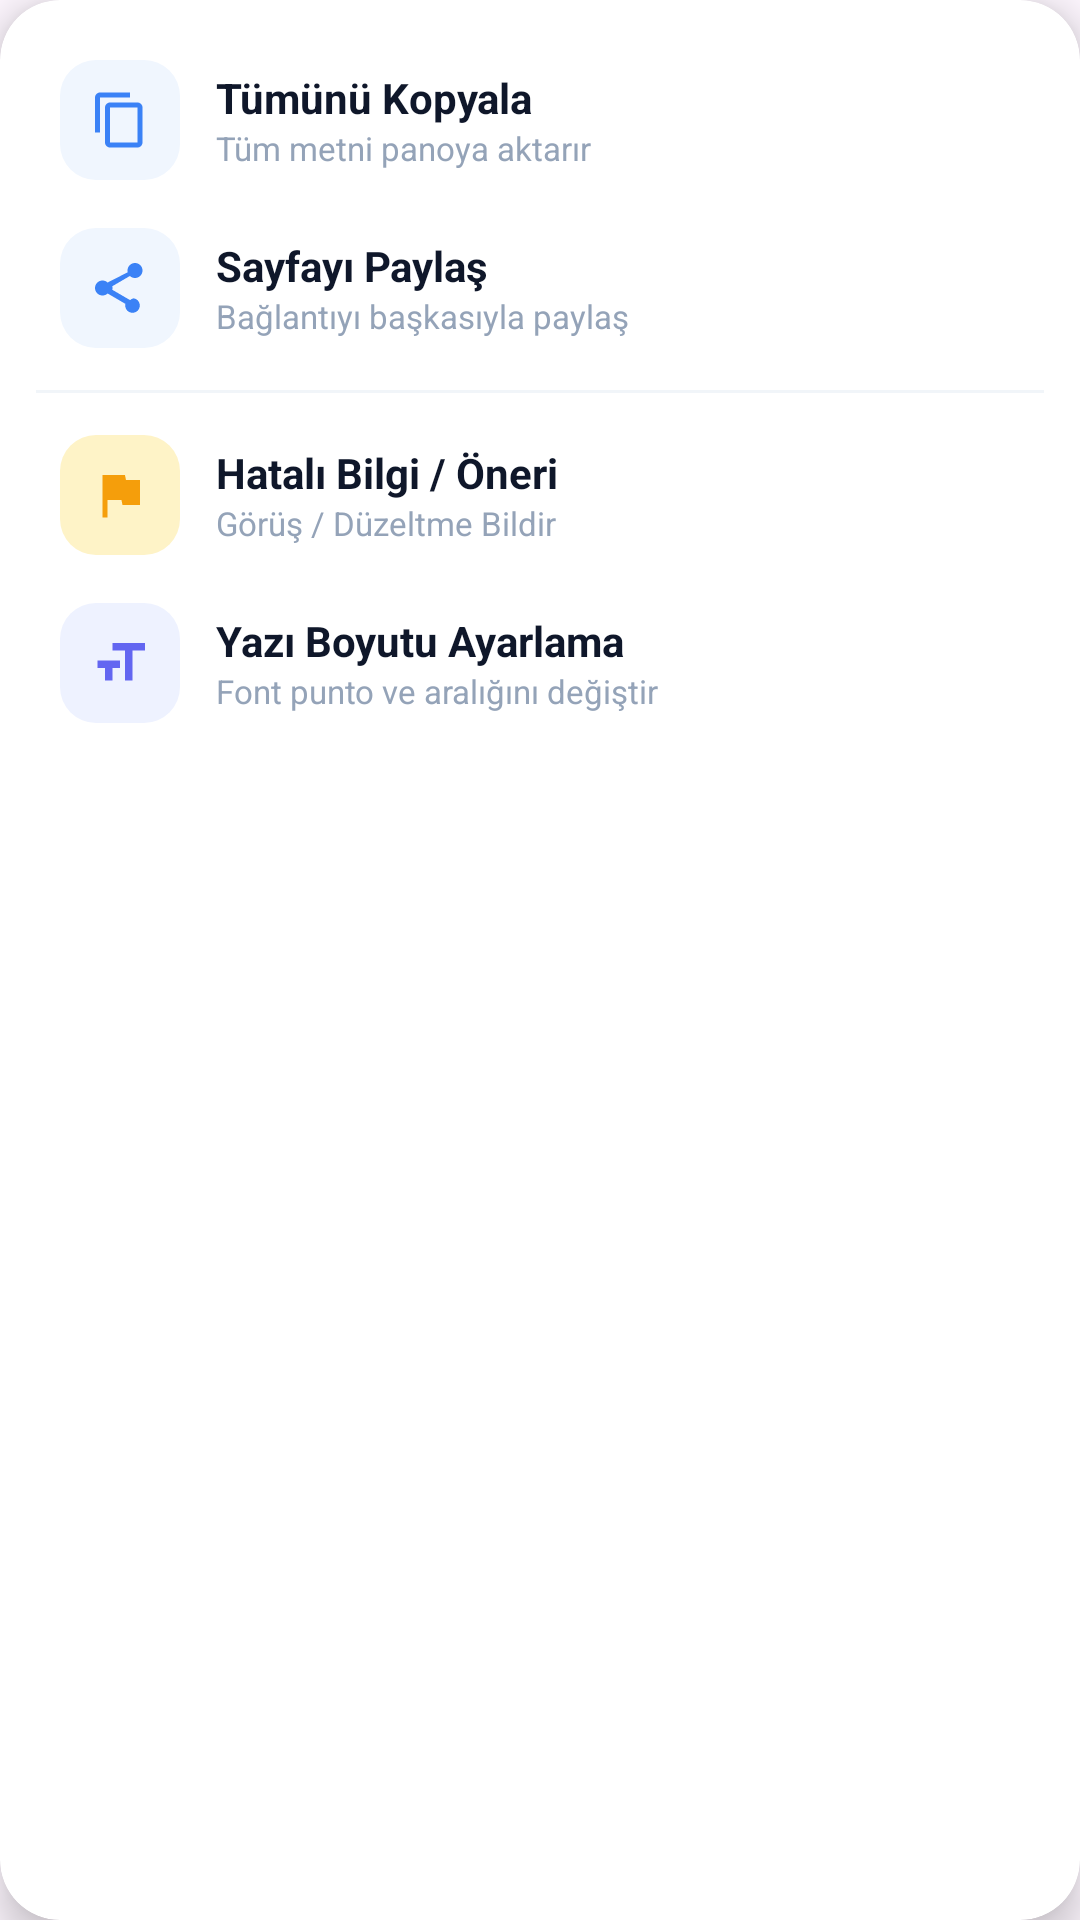

Screen size 1080px×1920px. Icon name, then its center in pixels as point (x, y):
flag: point (121, 496)
share: point (119, 288)
text size: point (121, 662)
